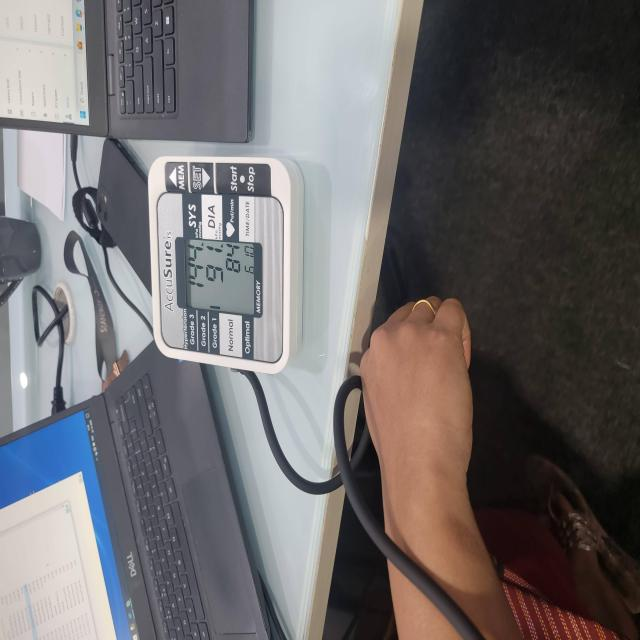bp: (145, 153, 304, 376)
